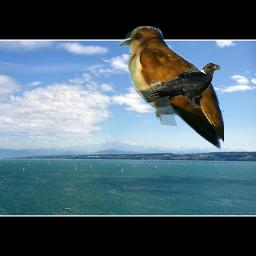Crow: (146, 62, 222, 109)
Cuckoo: (119, 26, 224, 151)
